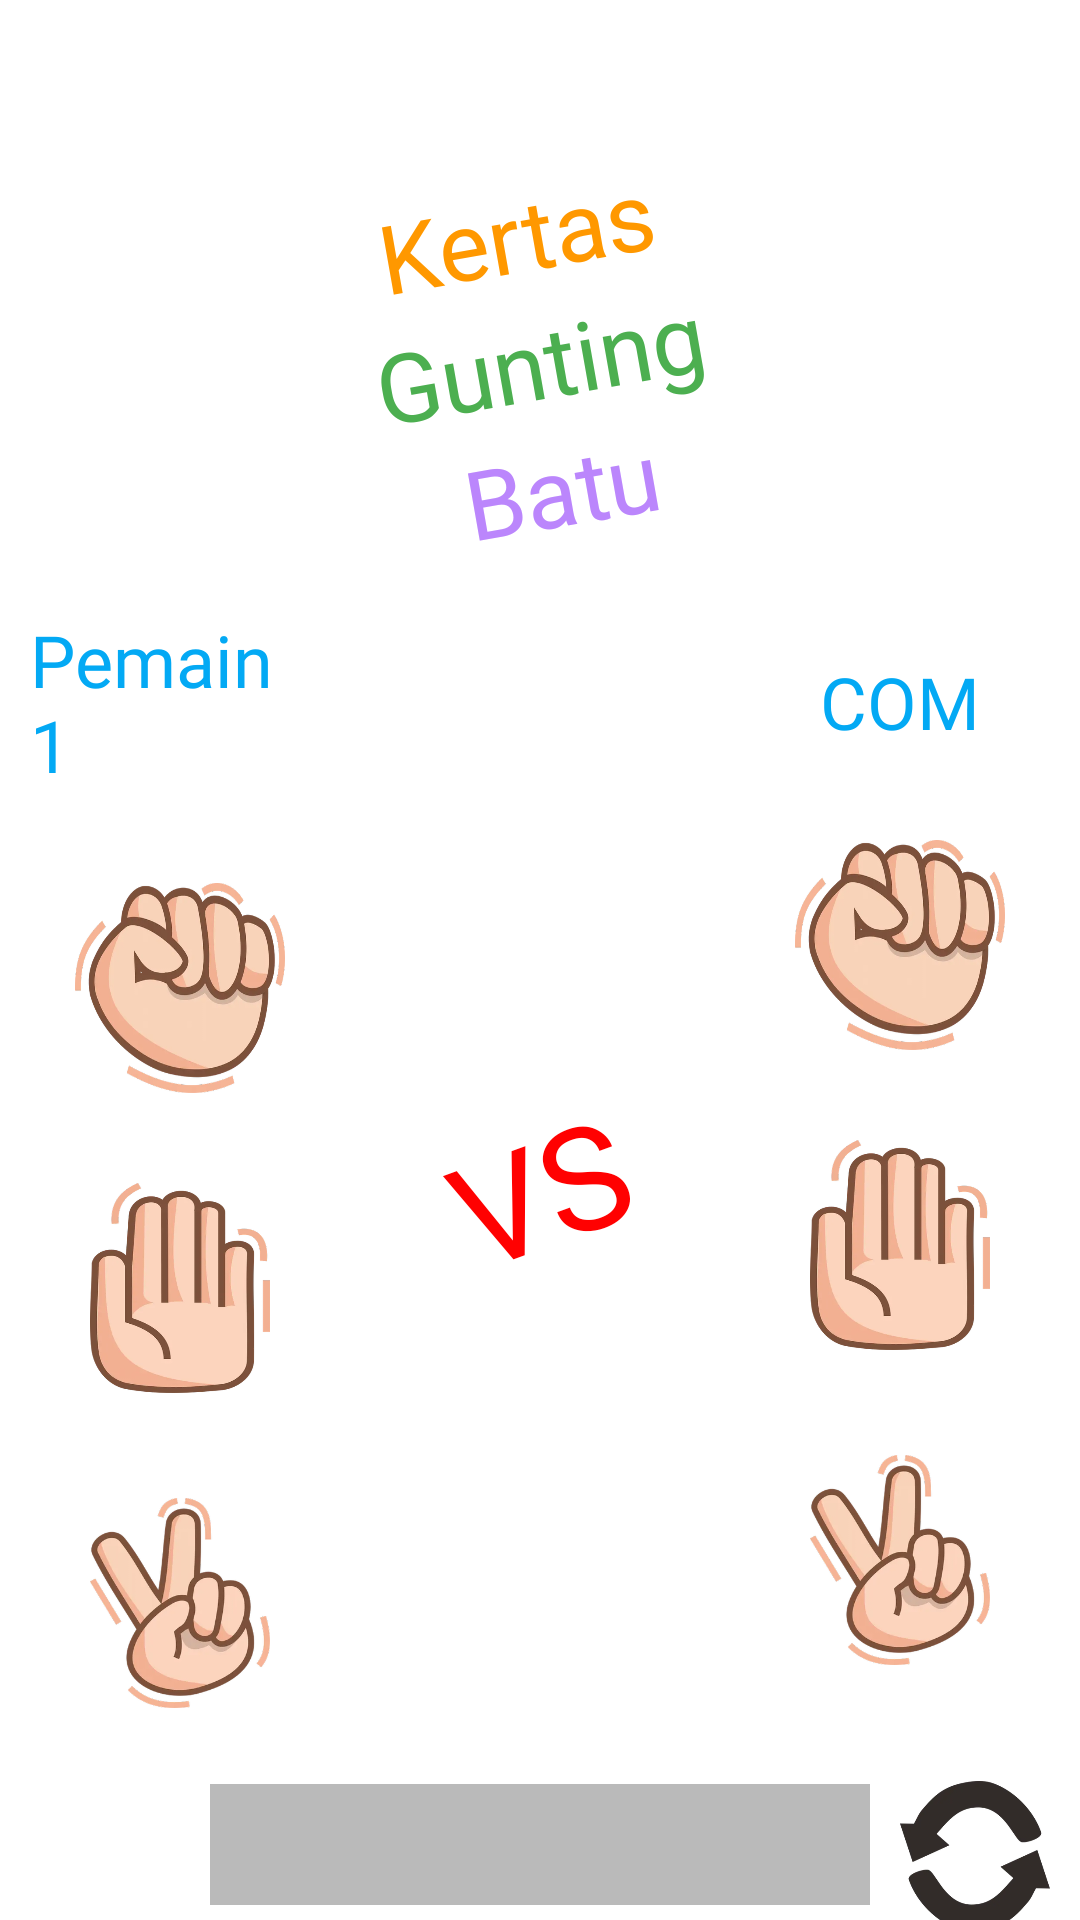

Icons on this 1080 × 1920 Android screen, each with the point to tap as point (x, y):
batu: point (900, 945), point (180, 988)
gunting: point (900, 1560), point (180, 1603)
kertas: point (900, 1245), point (180, 1288)
refresh button for restart game: point (975, 1850)
